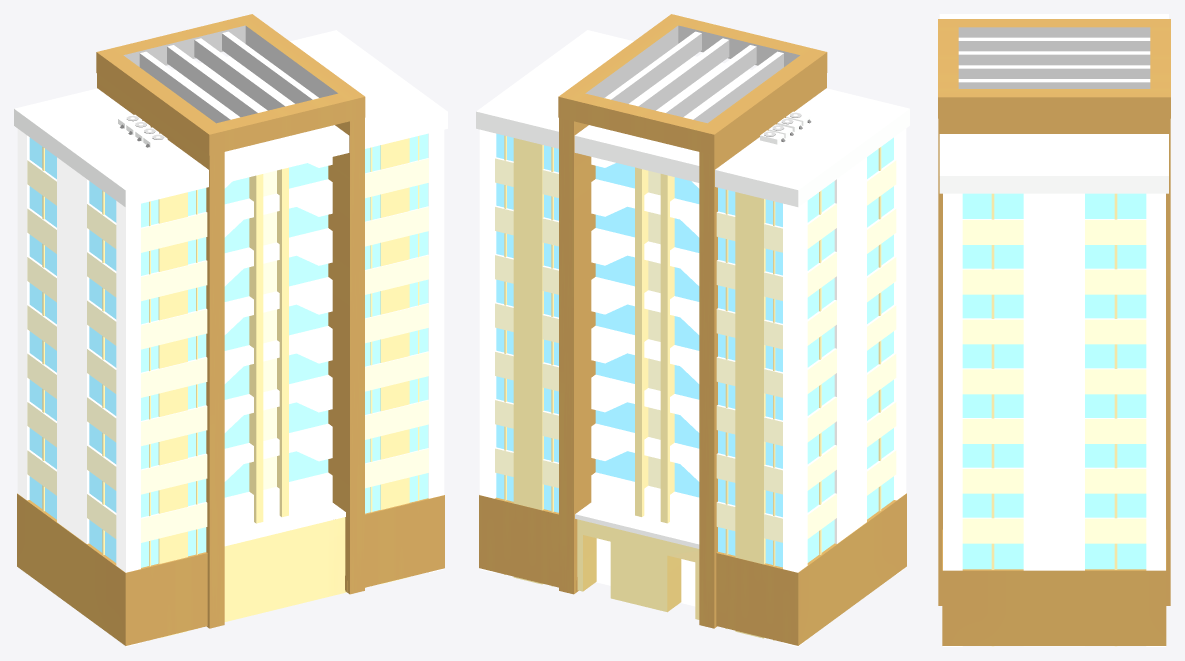
File: tile_for_home_2x2.002 (7).glb
The picture shows the model from 3 angles, left to right: view 1: azimuth 30°, elevation 25°; view 2: azimuth 150°, elevation 25°; view 3: azimuth 270°, elevation 25°; orthographic projection. The views are drawn at different scales.
Visible parts, largest first — view 1: apartment 1; view 2: apartment 1; view 3: apartment 1.
Part boxes in pixels (bbox=[...]): apartment 1: bbox=[14, 14, 447, 646]; apartment 1: bbox=[476, 14, 909, 646]; apartment 1: bbox=[938, 14, 1170, 646].
Size of the model in its own units: 15.09 by 22.18 by 9.16.
Materials: 1 (1 with a texture image).
